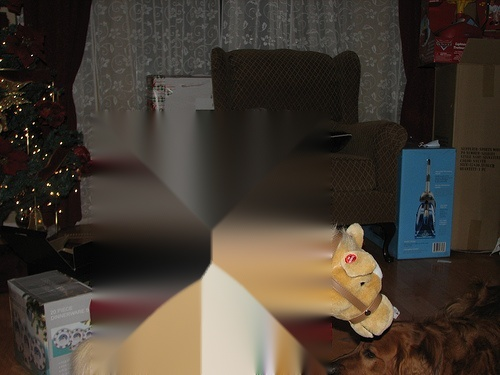chair: (213, 48, 406, 266)
dog: (326, 284, 500, 375)
